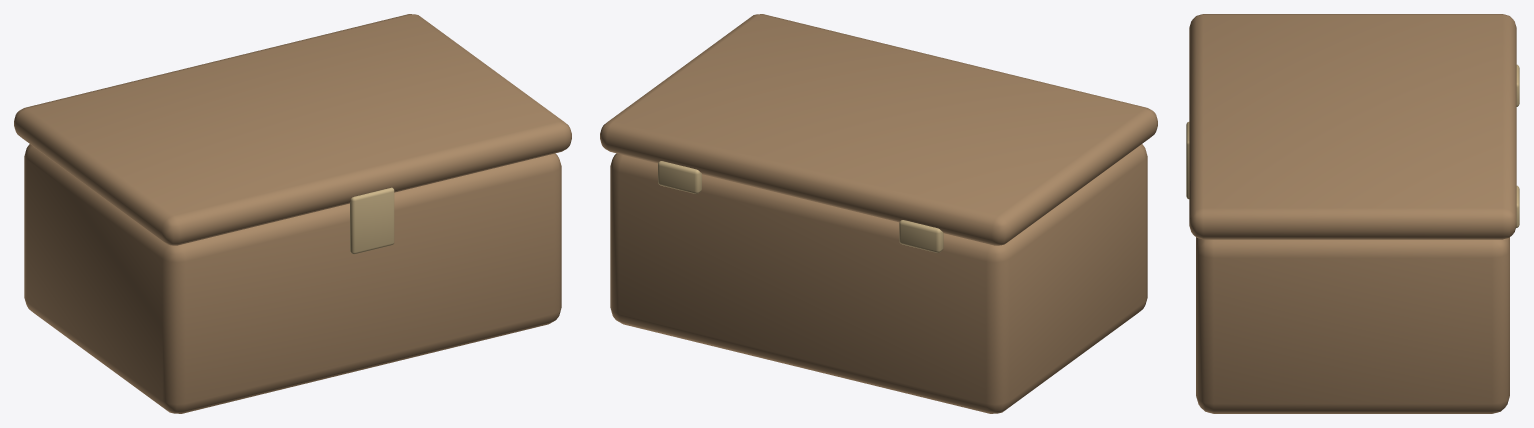
The model's file is keepsake_box.glb.
3 renders of one model, left to right at view 1: azimuth 30°, elevation 25°; view 2: azimuth 150°, elevation 25°; view 3: azimuth 270°, elevation 25°, orthographic. The views are drawn at different scales.
Visible parts, largest first — view 1: keepsake_box__body, keepsake_box__accent; view 2: keepsake_box__body, keepsake_box__accent; view 3: keepsake_box__body, keepsake_box__accent.
Boxes of the visible parts, box(x1,y1,x2,y2) form: keepsake_box__body: box(14, 14, 571, 413); keepsake_box__accent: box(350, 187, 394, 254); keepsake_box__body: box(600, 14, 1157, 413); keepsake_box__accent: box(658, 161, 943, 252); keepsake_box__body: box(1189, 14, 1516, 413); keepsake_box__accent: box(1186, 64, 1519, 227).
Size of the model in its own units: 0.247 by 0.1175 by 0.17.
